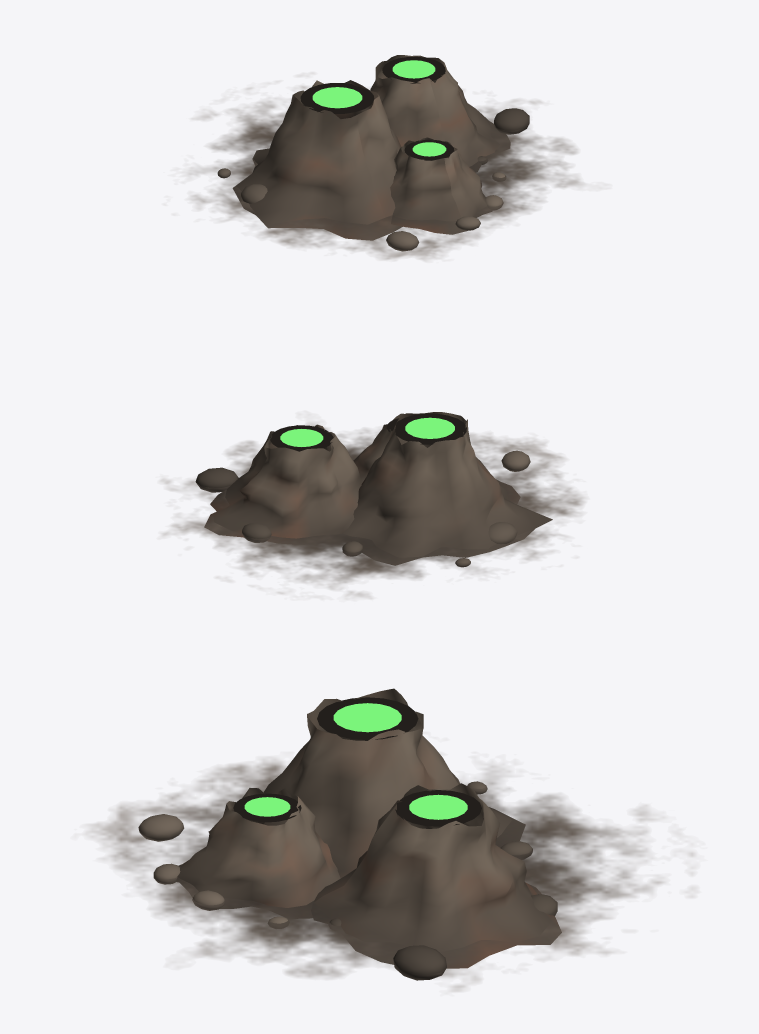
The model's file is vespene_geyser.glb.
3 views of the same model, one above another, from view 1: azimuth 30°, elevation 25°; view 2: azimuth 150°, elevation 25°; view 3: azimuth 270°, elevation 25° (orthographic). The views are drawn at different scales.
Size of the model in its own units: 6.2 by 1.27 by 6.2.
16 materials, 1 textured.
